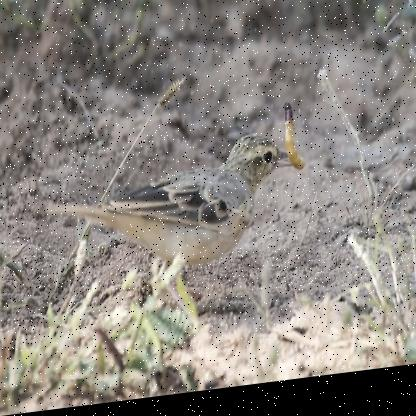Burung: (57, 133, 295, 331)
